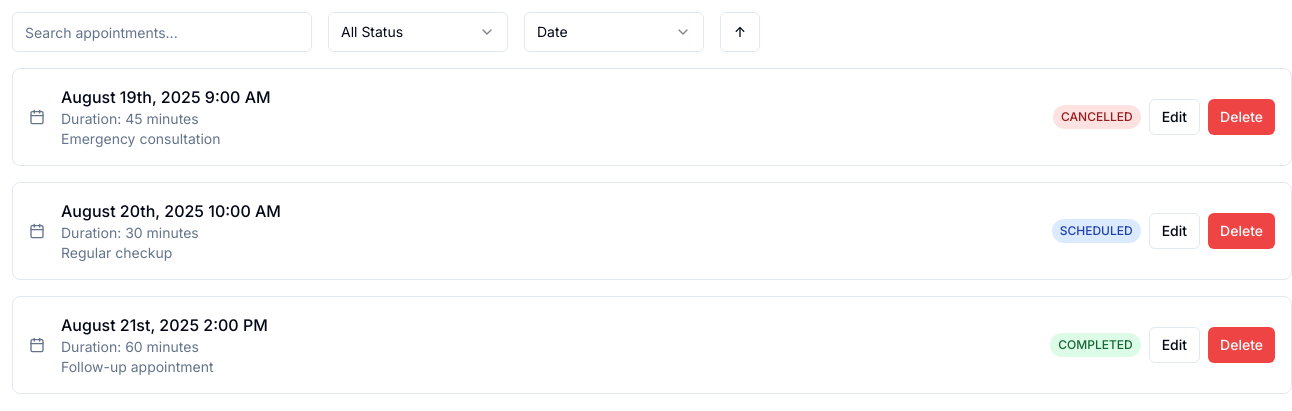
Test case: AppointmentList › filters appointments by status
Click the dropdown named "filter by status": (418, 32) [328,12,508,52]
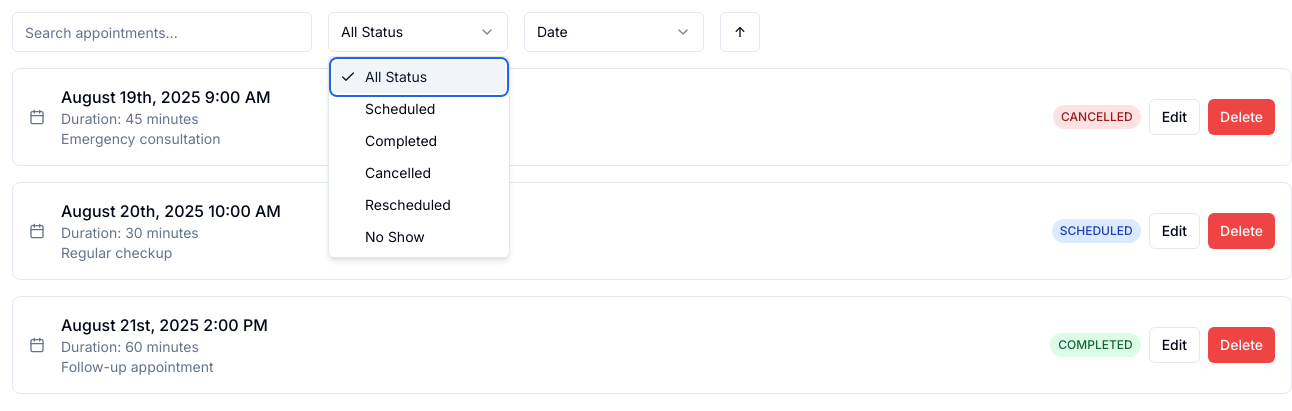
Click the option "Completed": (401, 140) [365,132,437,149]
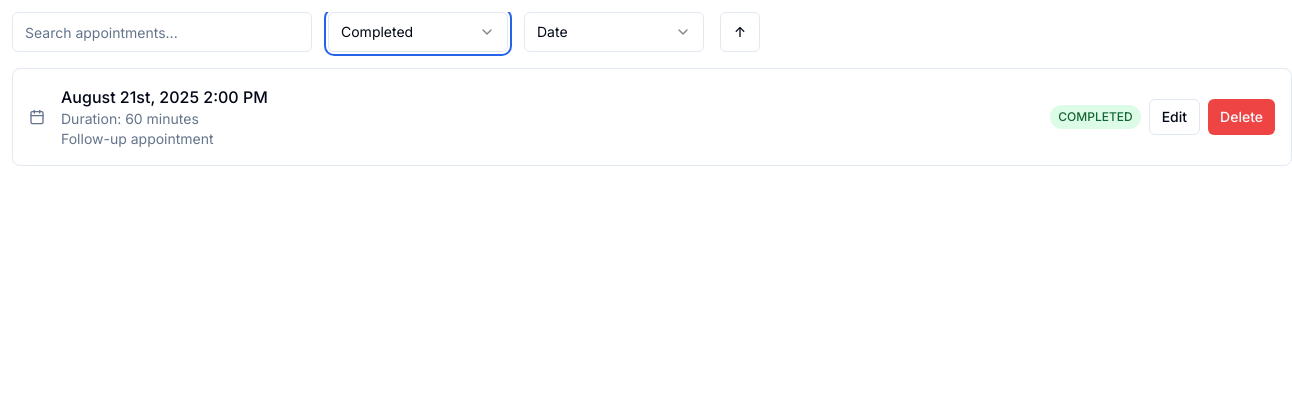
expect the text "Follow-up appointment" is shown: met, box [61,130,214,147]
expect the text "Regular checkup" is gone: met
expect the text "Emergency consultation" is gone: met
